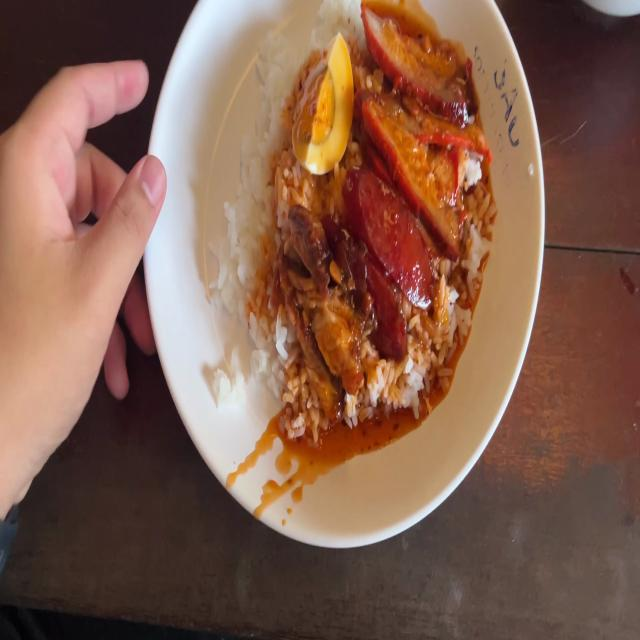01boiled_egg: (300, 40, 348, 165)
01chainese_sausage: (341, 172, 429, 348)
01crispy_pork: (287, 202, 322, 370), (309, 315, 363, 419)
01red_pork: (358, 6, 483, 226)
01red_pork_and_crispy_pork: (231, 12, 484, 402)
01rice: (226, 27, 298, 335)
